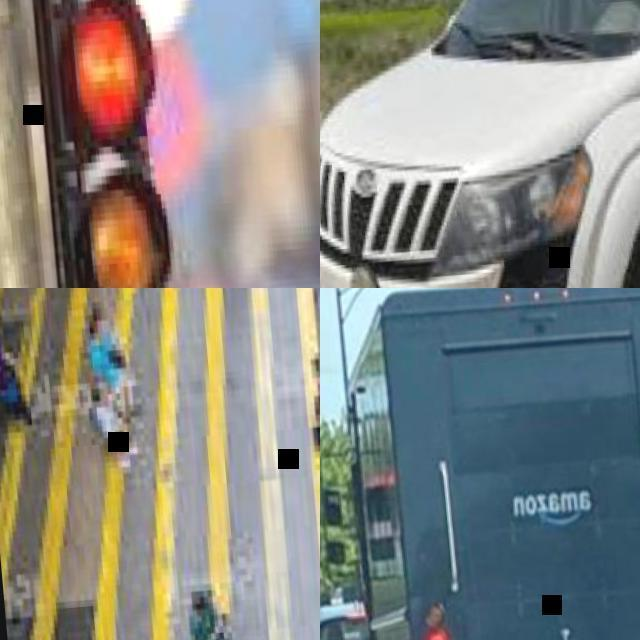car: (318, 0, 637, 286)
